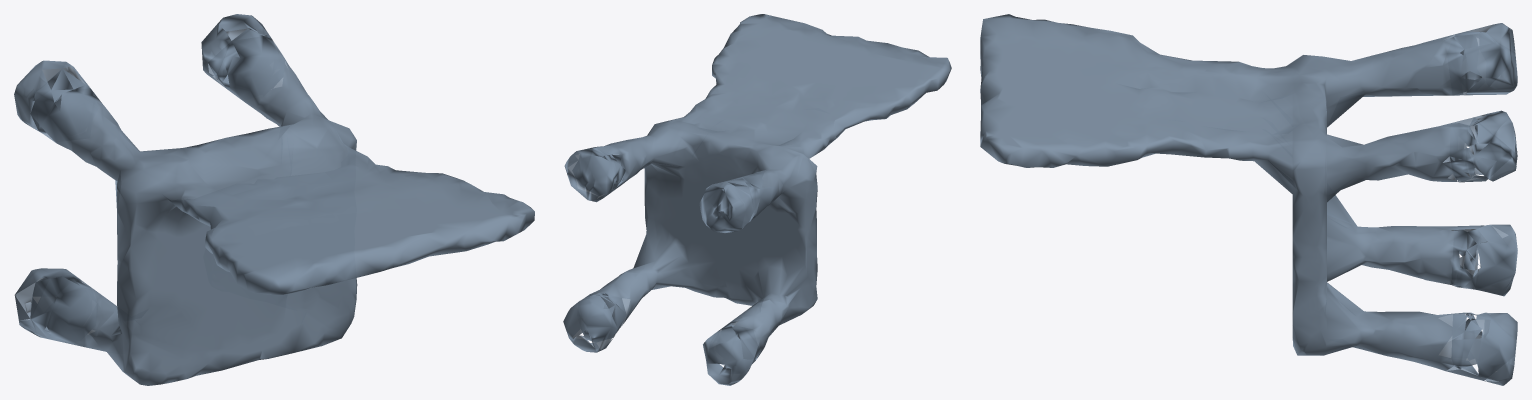
File: chair_0477_original.obj
3 renders of one model, left to right at view 1: azimuth 30°, elevation 25°; view 2: azimuth 150°, elevation 25°; view 3: azimuth 270°, elevation 25°, orthographic. The views are drawn at different scales.
Size of the model in its own units: 0.946 by 0.8677 by 1.58.
